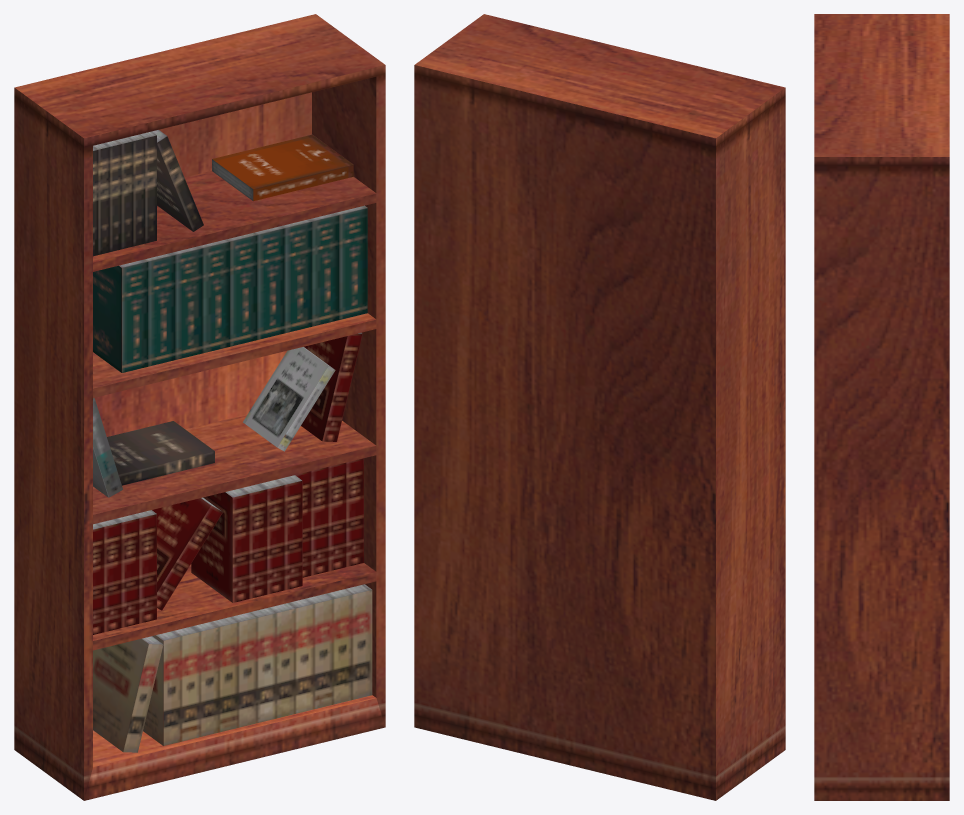
Rendered from lrgwoodbookshelf.fbx.
3 renders of one model, left to right at view 1: azimuth 30°, elevation 25°; view 2: azimuth 150°, elevation 25°; view 3: azimuth 270°, elevation 25°, orthographic. The views are drawn at different scales.
Parts seen in each view (by area): view 1: mesh_0; view 2: mesh_0; view 3: mesh_0.
Boxes of the visible parts, x1=… form: mesh_0: x1=14, y1=14, x2=385, y2=800; mesh_0: x1=414, y1=14, x2=785, y2=800; mesh_0: x1=814, y1=14, x2=949, y2=800.
Bounding box in the file's own units: 100 × 210 × 40.
Materials: 1 (1 with a texture image).
